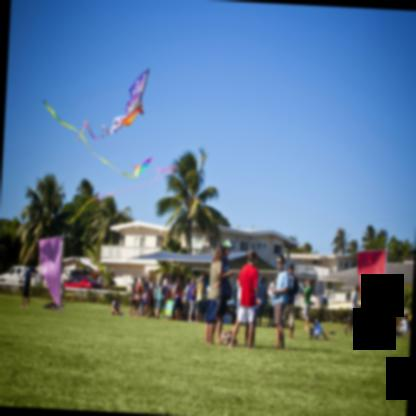backpack: (24, 269, 30, 288)
